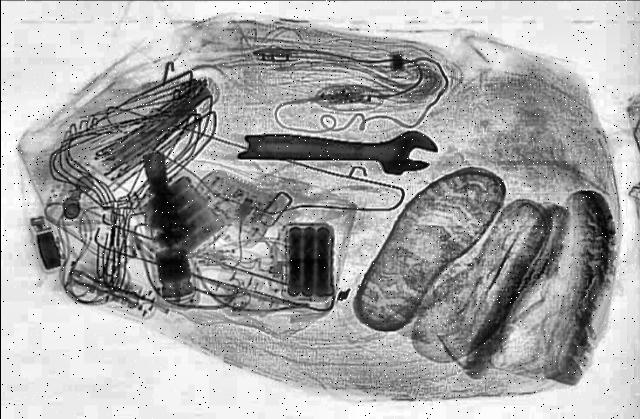Wrench: (236, 122, 440, 178)
